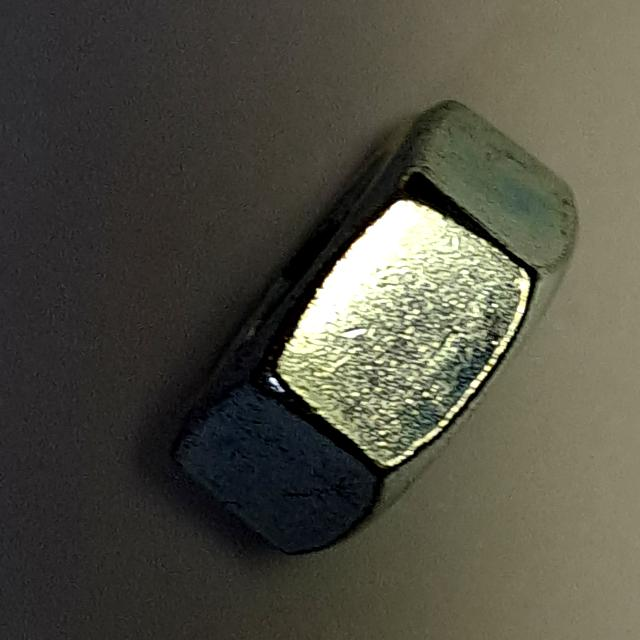Side_Excellent: (145, 77, 590, 575)
